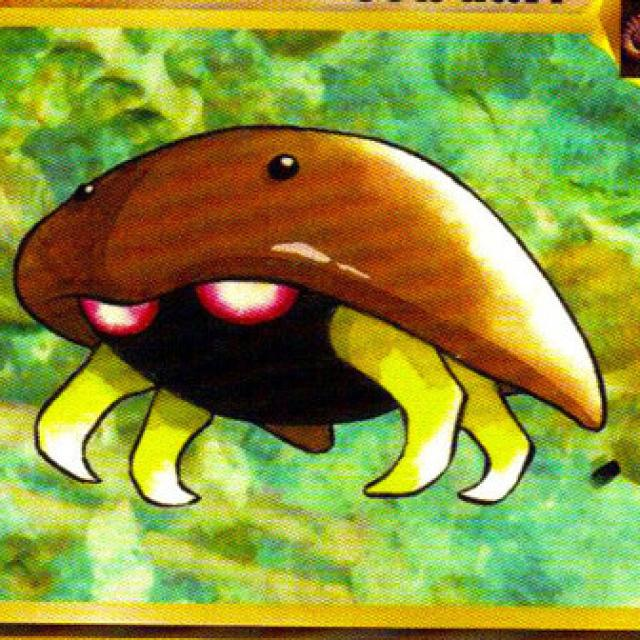Kabuto: (11, 122, 604, 502)
